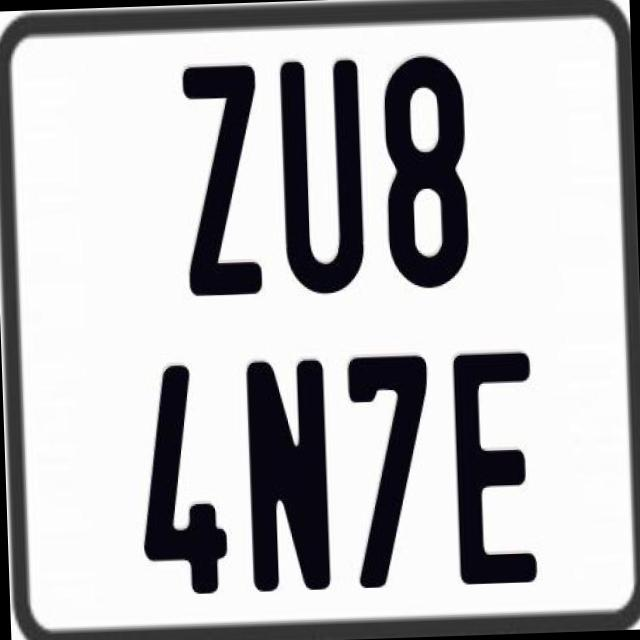4: (138, 358, 236, 594)
7: (342, 354, 438, 588)
8: (382, 54, 478, 298)
E: (448, 351, 536, 594)
N: (242, 354, 332, 594)
U: (275, 59, 362, 301)
Z: (178, 63, 260, 296)
